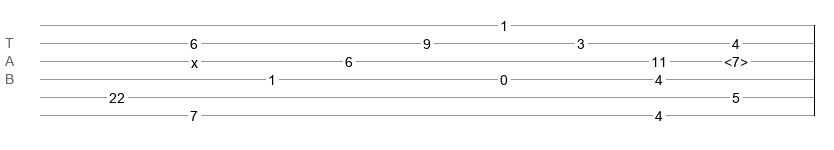0: (500, 72, 508, 82)
1: (268, 72, 276, 82), (500, 18, 508, 28)
11: (651, 54, 667, 64)
22: (109, 90, 125, 100)
3: (577, 36, 585, 46)
4: (655, 72, 663, 82), (655, 108, 663, 118), (732, 36, 740, 46)
5: (732, 90, 740, 100)
6: (190, 36, 198, 46), (345, 54, 353, 64)
7: (190, 108, 198, 118)
9: (423, 36, 431, 46)
harmonic: (724, 54, 748, 64)
x: (191, 55, 198, 63)
